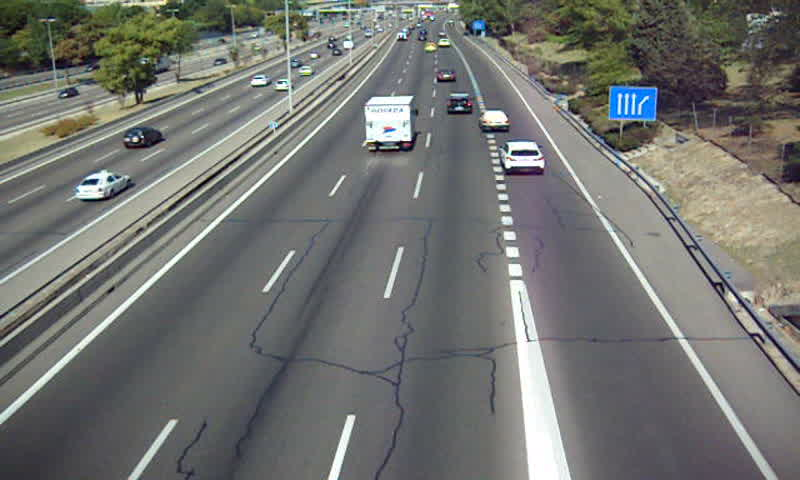car: (500, 140, 545, 173), (478, 110, 509, 130), (446, 93, 473, 115), (435, 68, 454, 82), (438, 37, 452, 47)
small-truck: (362, 95, 416, 153)
